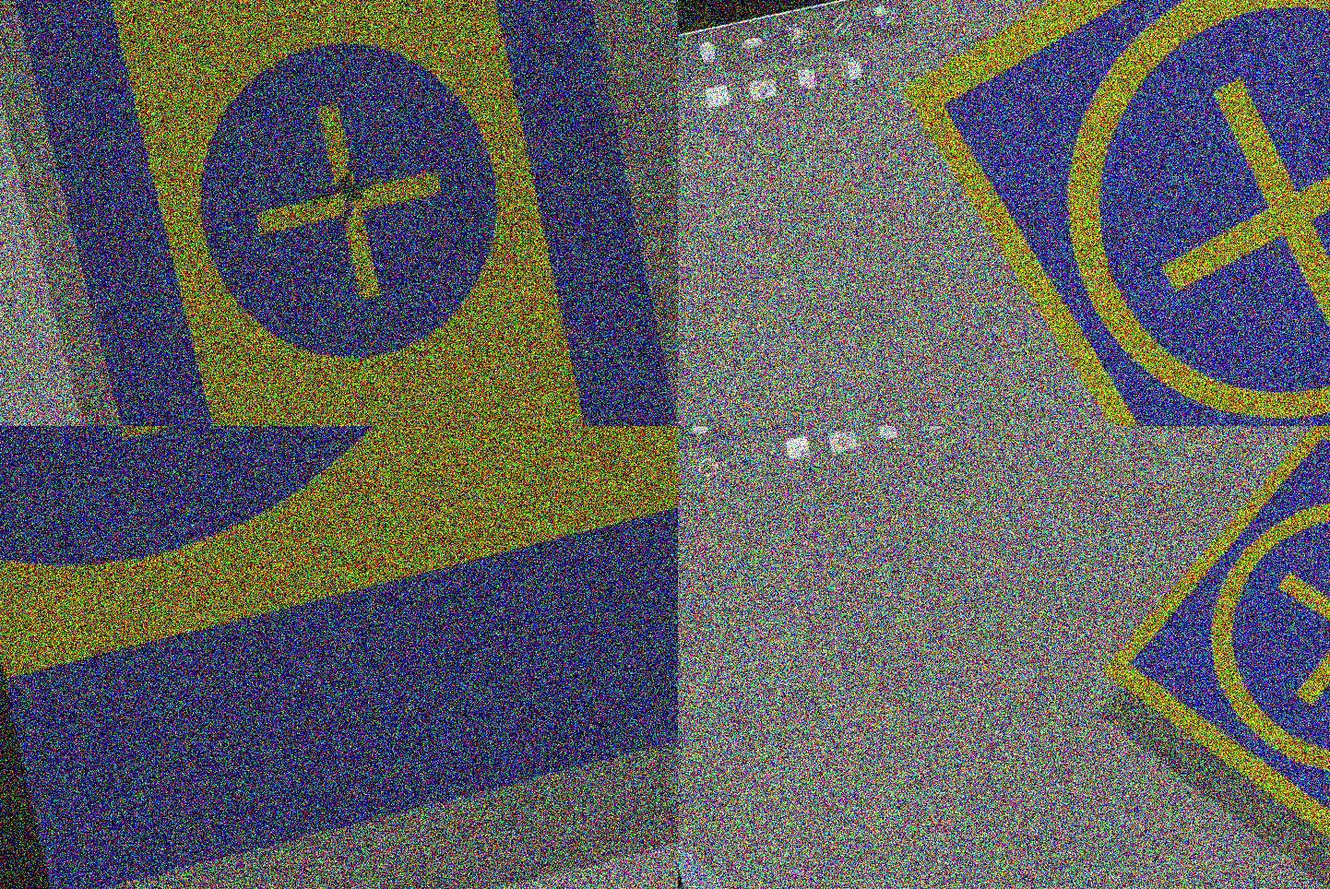large_base: (1, 426, 678, 889), (4, 1, 678, 426)
small_base: (880, 1, 1330, 426), (1059, 426, 1330, 889)
